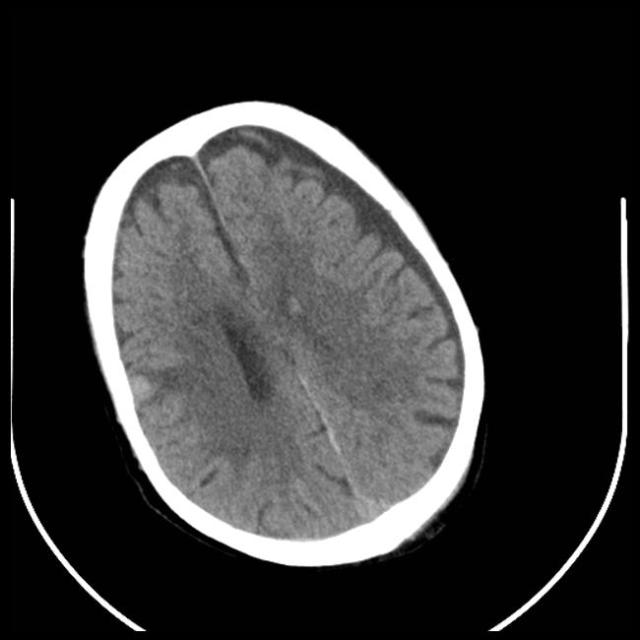lesion: (81, 101, 489, 566)
